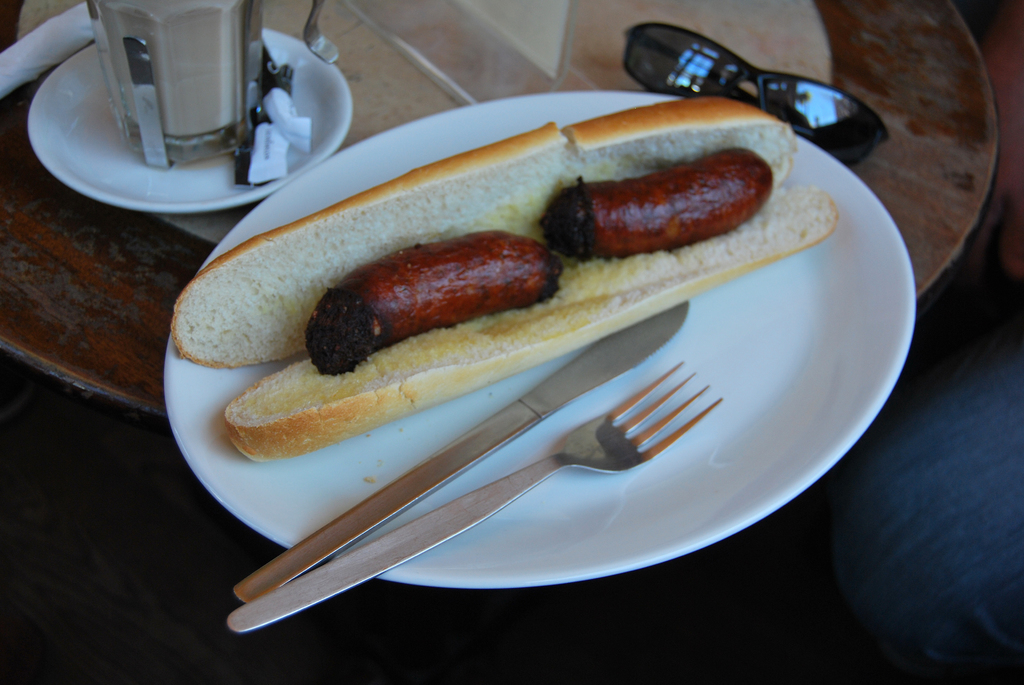hot_dog: (160, 98, 845, 466)
